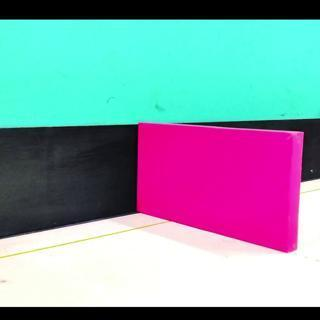xparking: (142, 142, 296, 249)
